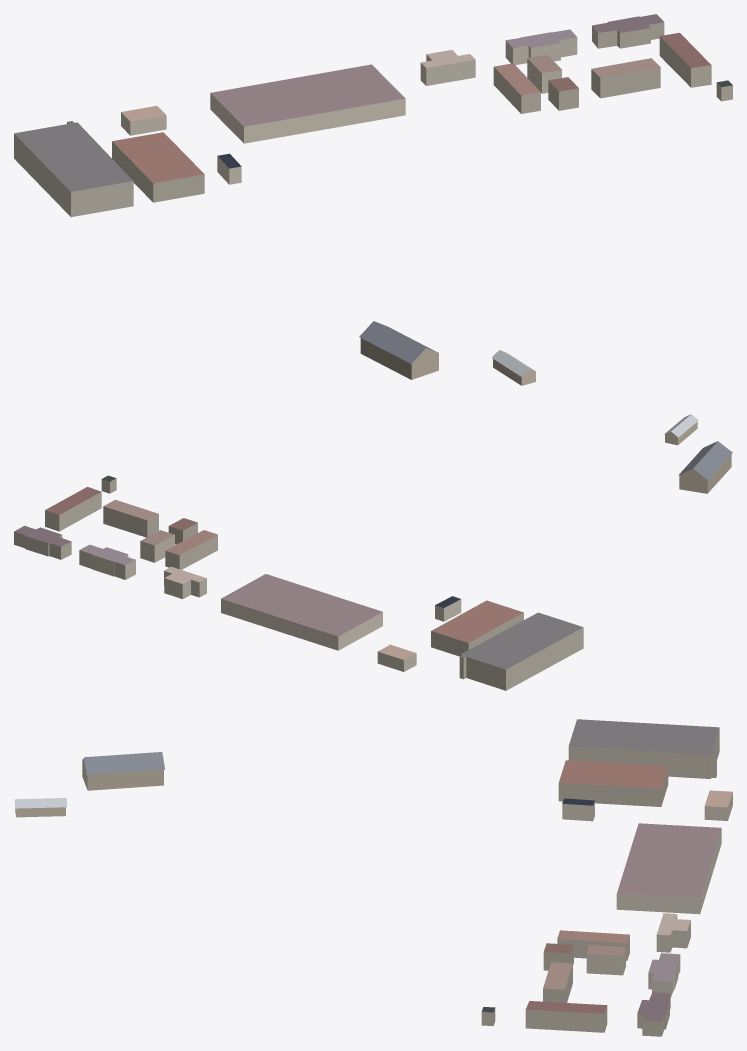
3 renders of one model, top to bottom at view 1: azimuth 30°, elevation 25°; view 2: azimuth 150°, elevation 25°; view 3: azimuth 270°, elevation 25°, orthographic. The views are drawn at different scales.
Visible parts, largest first — view 1: tuile; view 2: tuile; view 3: tuile.
Boxes of the visible parts, box(x1,y1,x2,y2) form: tuile: box(14, 14, 732, 385); tuile: box(14, 414, 732, 690); tuile: box(14, 719, 732, 1036).
Size of the model in its own units: 221 by 11.37 by 228.
